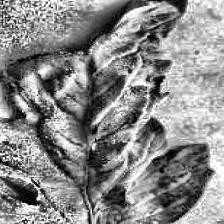disease: (0, 0, 209, 224)
